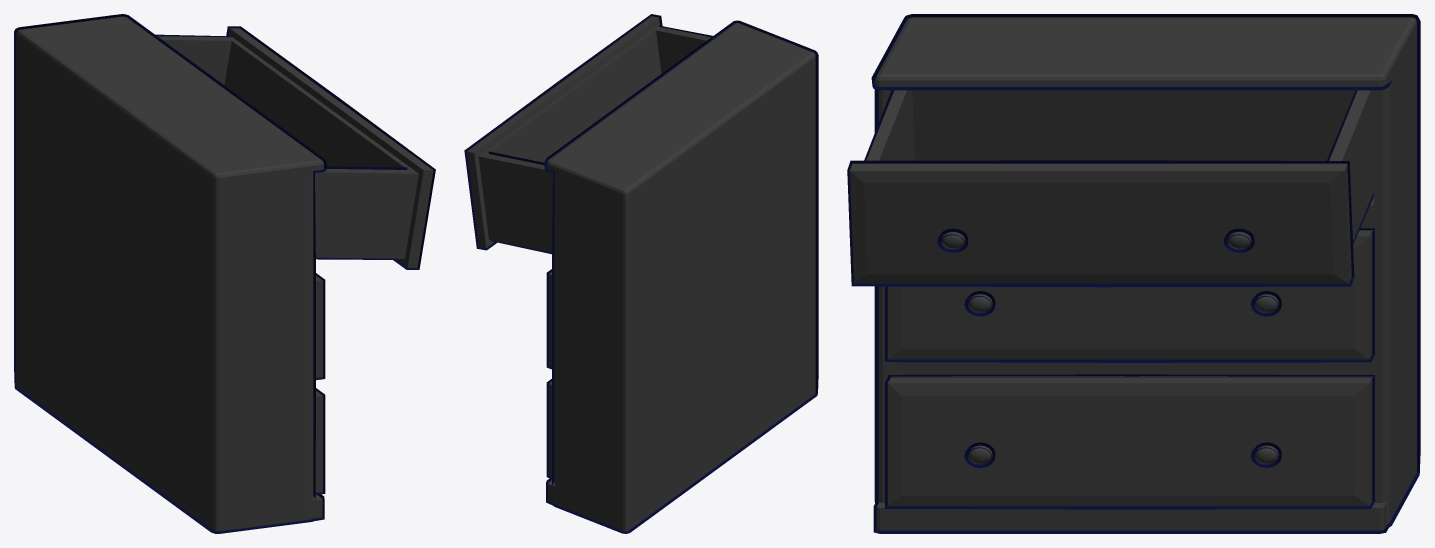
The picture shows the model from 3 angles, left to right: view 1: azimuth 30°, elevation 25°; view 2: azimuth 150°, elevation 25°; view 3: azimuth 270°, elevation 25°; orthographic projection. The views are drawn at different scales.
Parts seen in each view (by area): view 1: Dresser_Open; view 2: Dresser_Open; view 3: Dresser_Open.
Boxes of the visible parts, x1,y1,x2,y2 form: Dresser_Open: (14,14,435,533); Dresser_Open: (464,14,818,533); Dresser_Open: (847,14,1420,533).
Bounding box in the file's own units: 0.7234 × 1.2 × 1.35.
